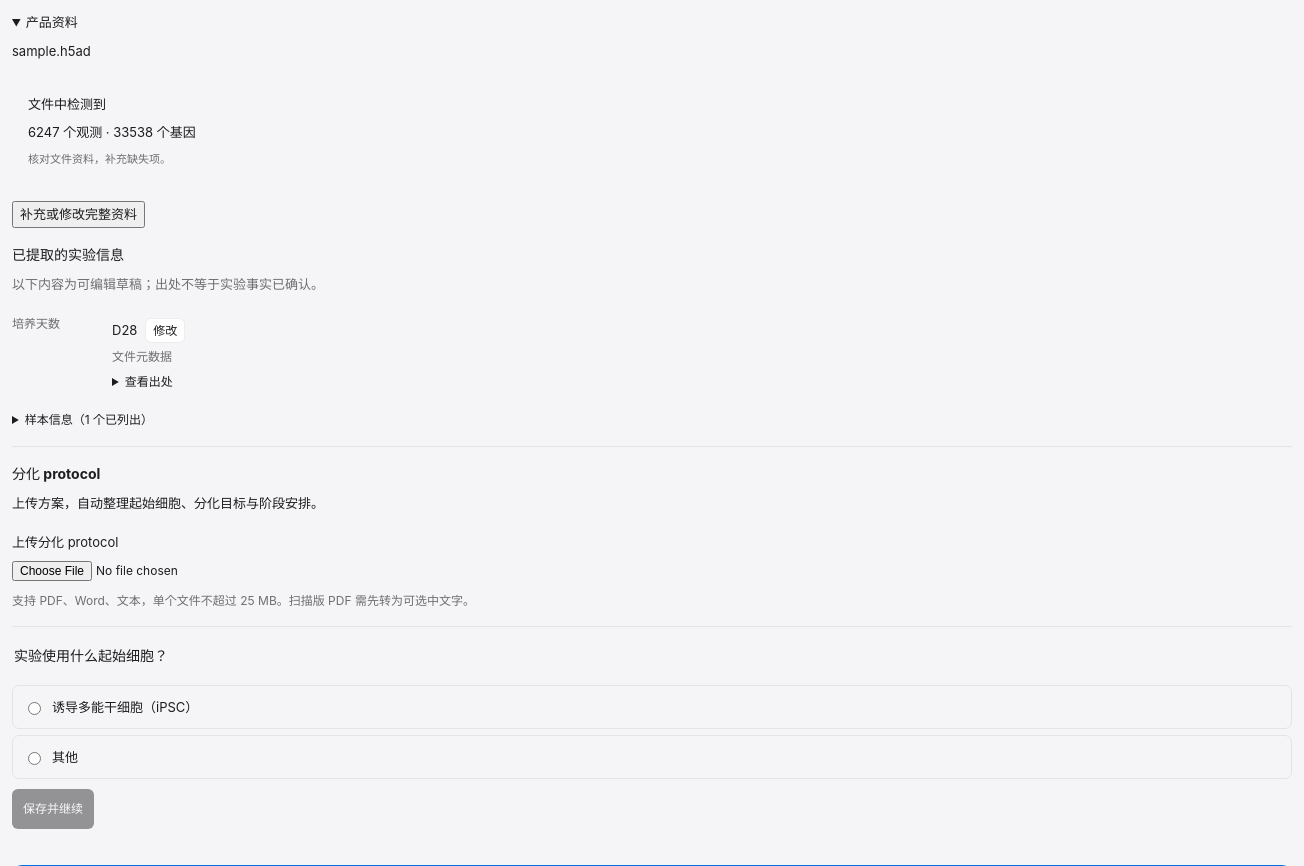
Test case: shows metadata first and saves one starting-cell answer without repeating the day
Expected: the text "D28" is shown, [112, 322, 137, 338]
Click the radio button labelled "诱导多能干细胞（iPSC）": (34, 709) [28, 702, 41, 715]
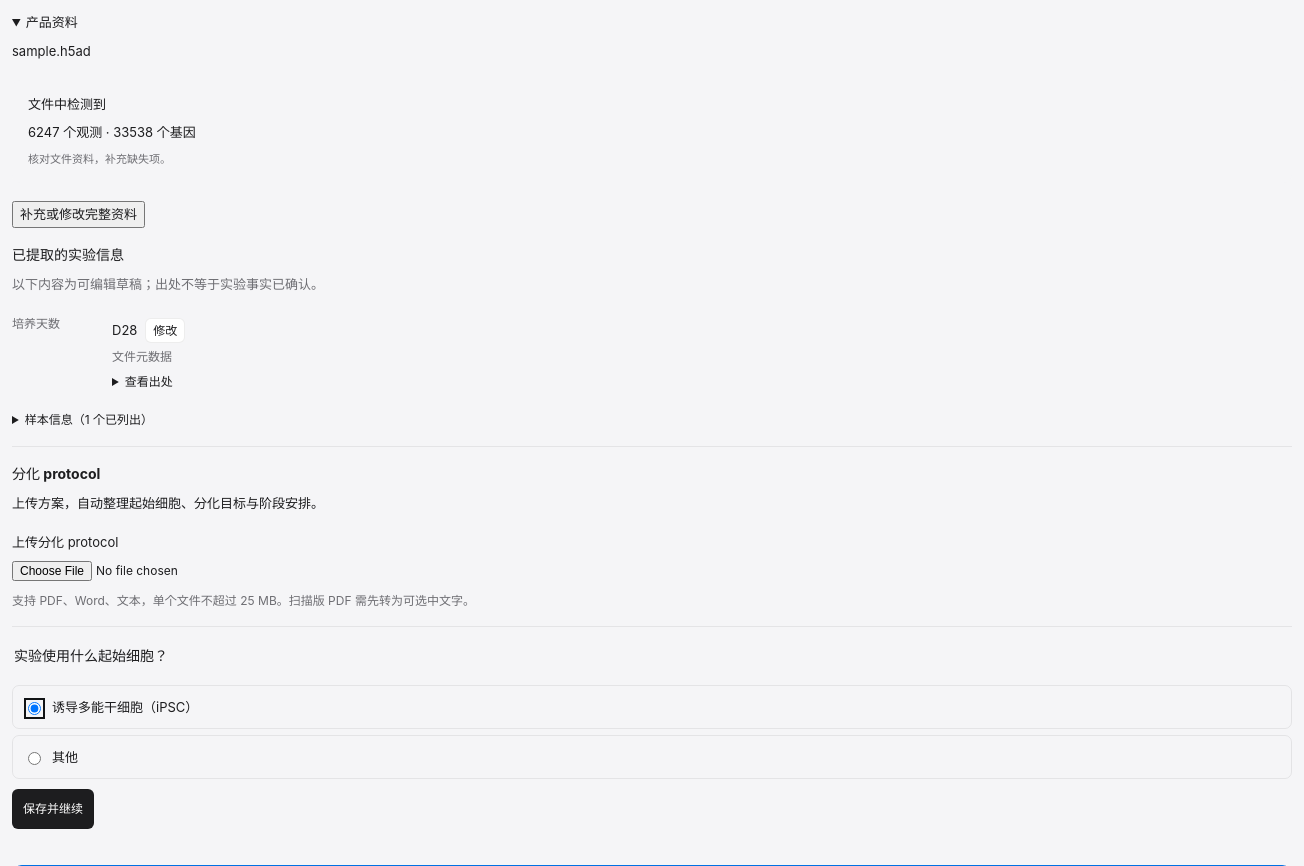
Click the button "保存并继续": (53, 809) [12, 789, 94, 829]
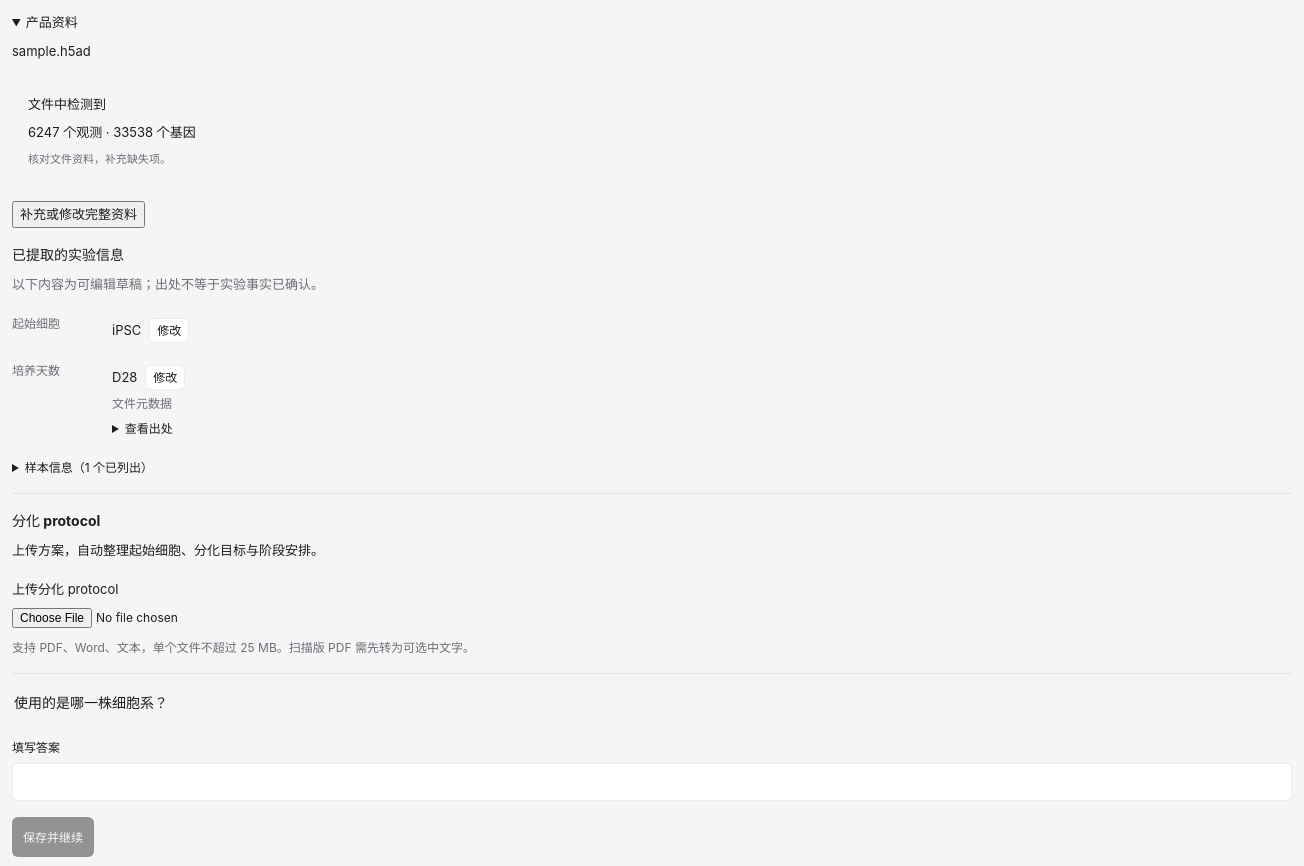
Now the text "使用的是哪一株细胞系？" is shown, box [12, 692, 170, 714]
